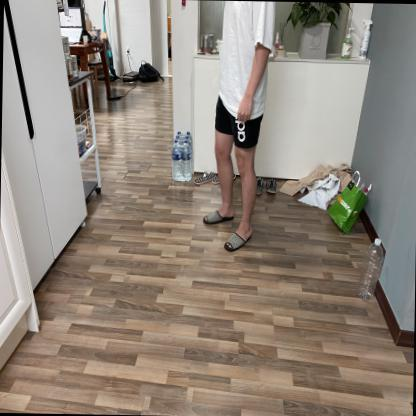no_safety-shoe: (218, 220, 270, 256), (195, 199, 236, 227)
